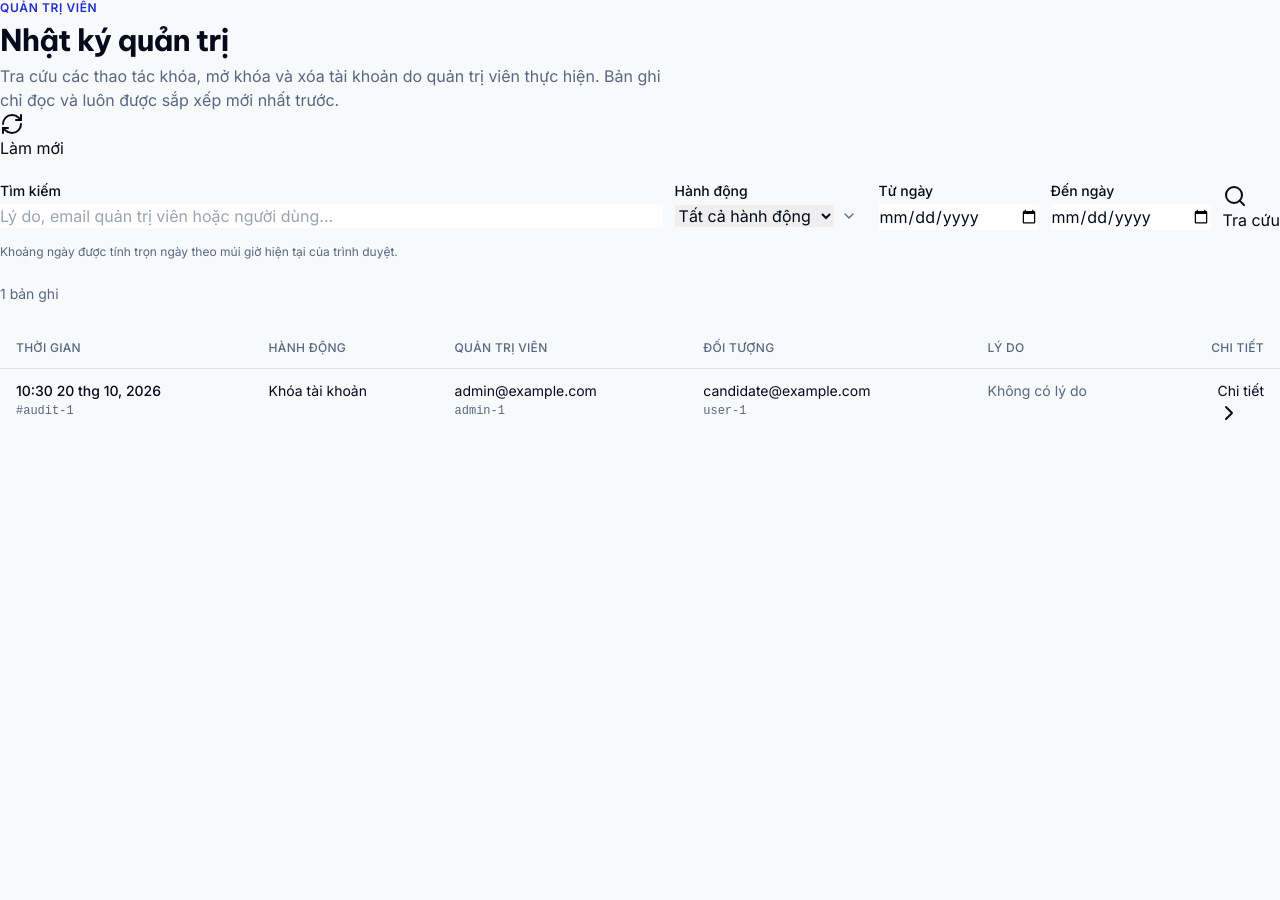
it: AdminAuditPage › shows a no-details fallback in the modal
The width and height of the screenshot is (1280, 900).
Expected: the text "candidate@example.com" is shown, [703,382,870,399]
Click the button with aria-label "Xem chi tiết bản ghi audit-1" at coordinates (1241, 403), box [1218,381,1264,425]
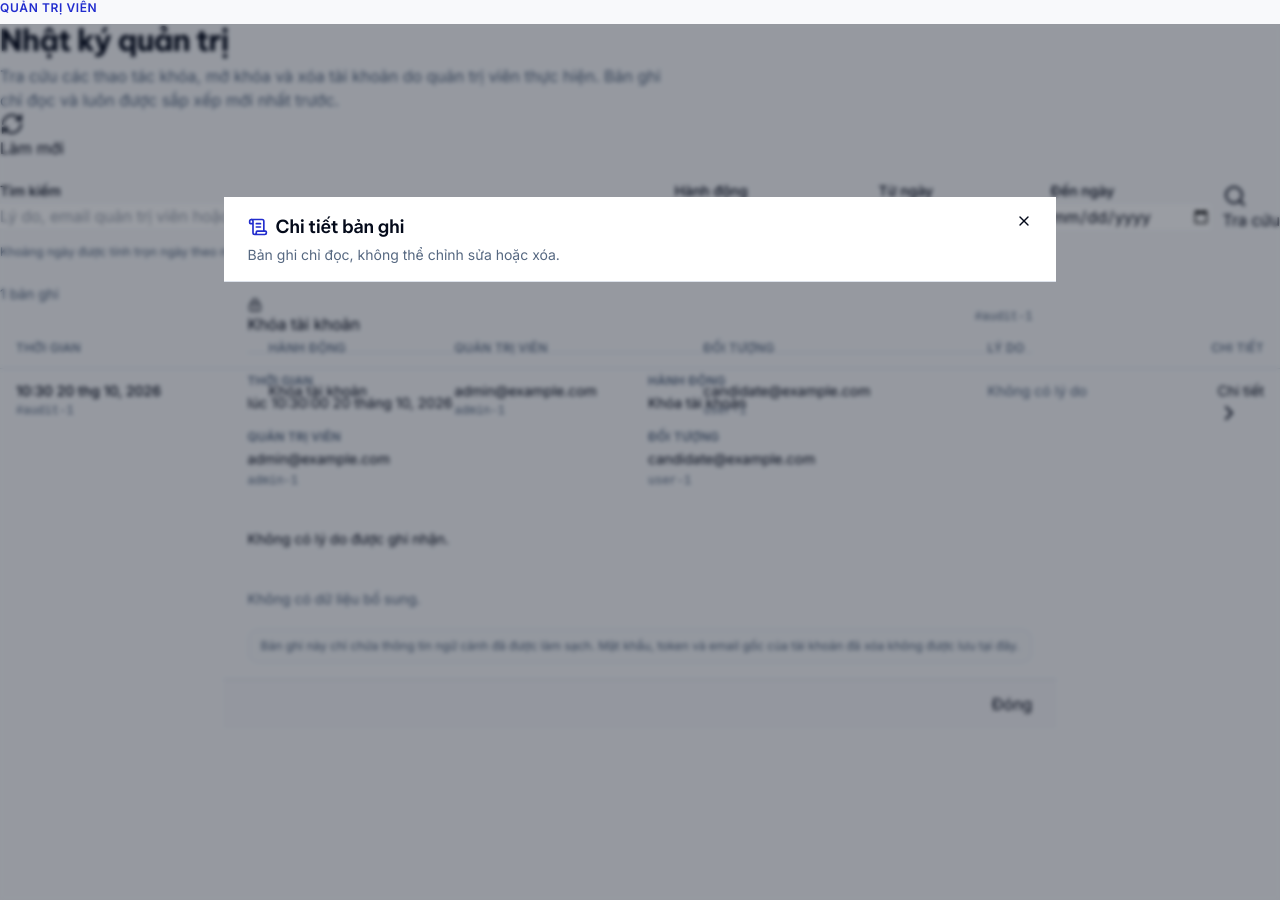
Expected: the text "Không có lý do được ghi nhận." is shown, [248,530,449,546]
Expected: the text "Không có dữ liệu bổ sung." is shown, [248,590,421,606]
